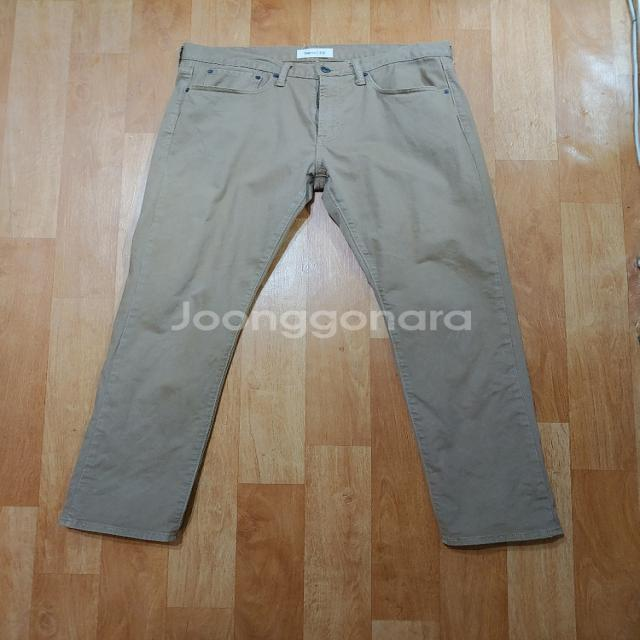long-pants: (59, 42, 564, 552)
